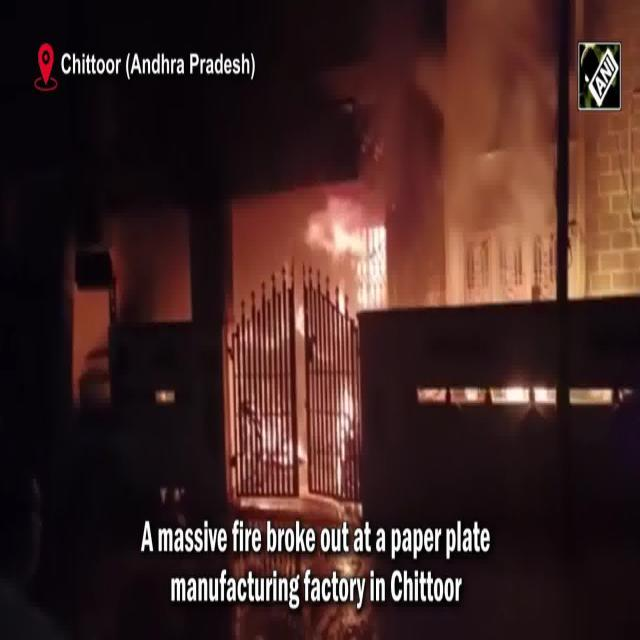fire: (309, 209, 365, 263)
